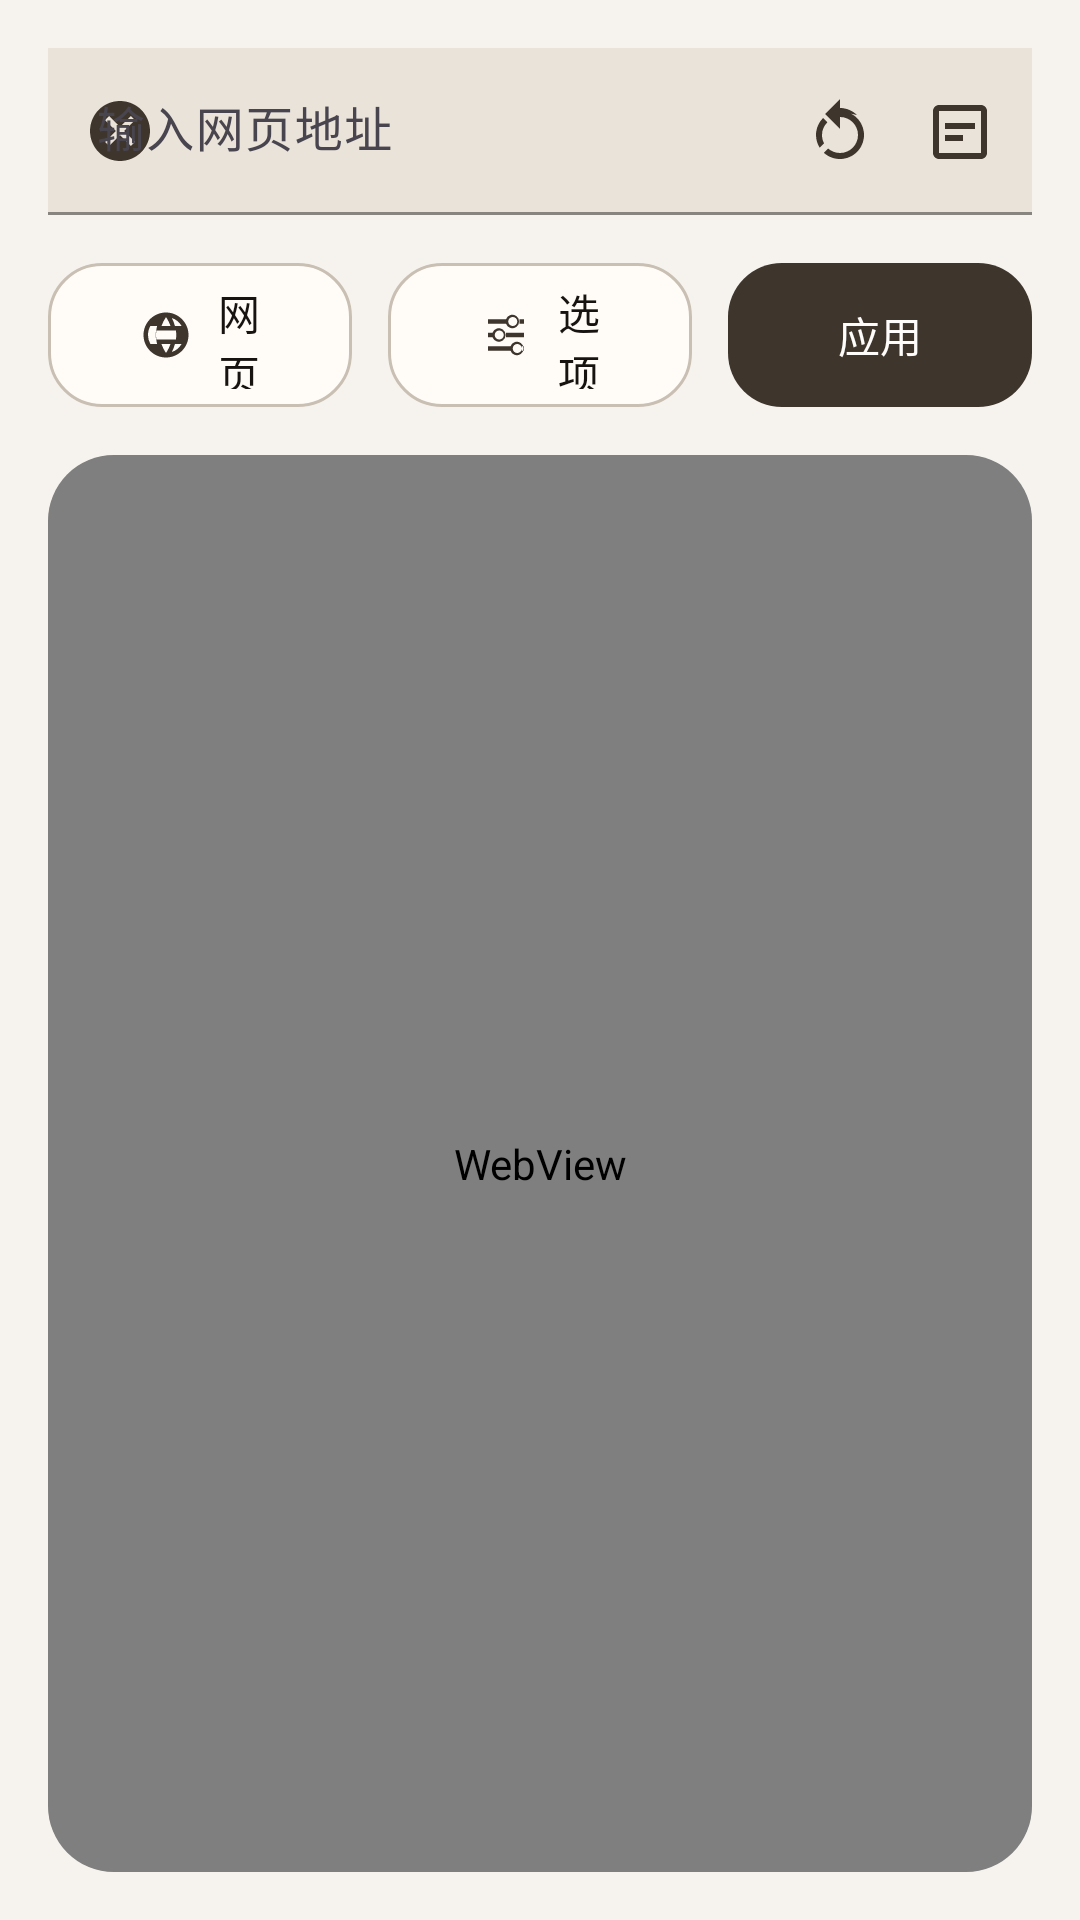

Named icons in this screenshot (1080px×1920px) and their centers, (x,y):
刷新预览: (840,129)
